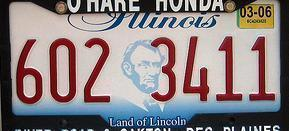placa de veiculo: (7, 1, 285, 127)
